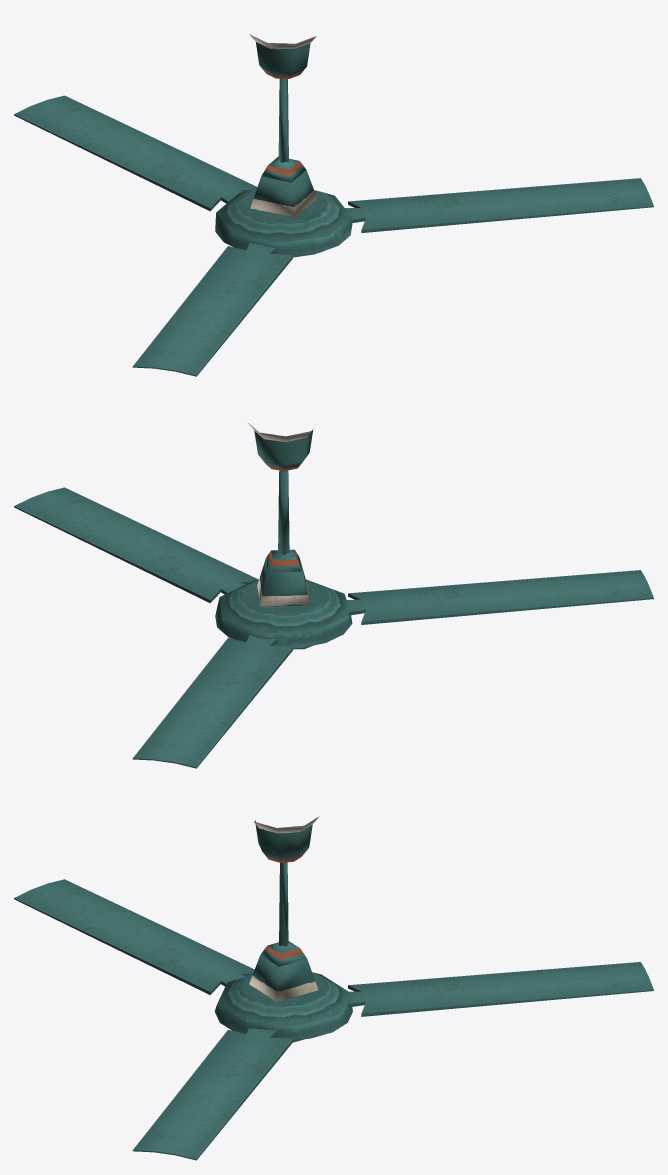
File: Prop_Jsds01.glb
The picture shows the model from 3 angles, top to bottom: view 1: azimuth 30°, elevation 25°; view 2: azimuth 150°, elevation 25°; view 3: azimuth 270°, elevation 25°; orthographic projection.
Parts seen in each view (by area): view 1: xiutz_jsds_01; view 2: xiutz_jsds_01; view 3: xiutz_jsds_01.
Part boxes in pixels (box(x1,y1,x2,y2)): xiutz_jsds_01: box(14, 34, 653, 376); xiutz_jsds_01: box(14, 423, 653, 768); xiutz_jsds_01: box(14, 816, 653, 1160).
Bounding box in the file's own units: 3.2 × 1.15 × 3.09.
1 material, 1 textured.
